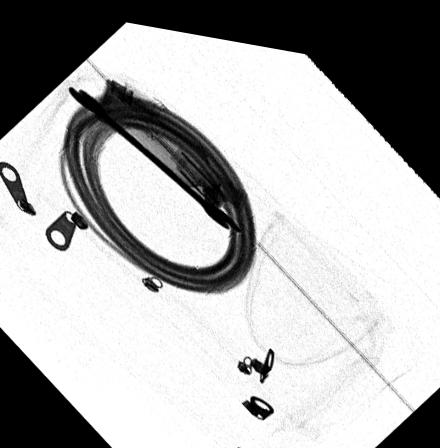Wrench: (66, 84, 237, 222)
